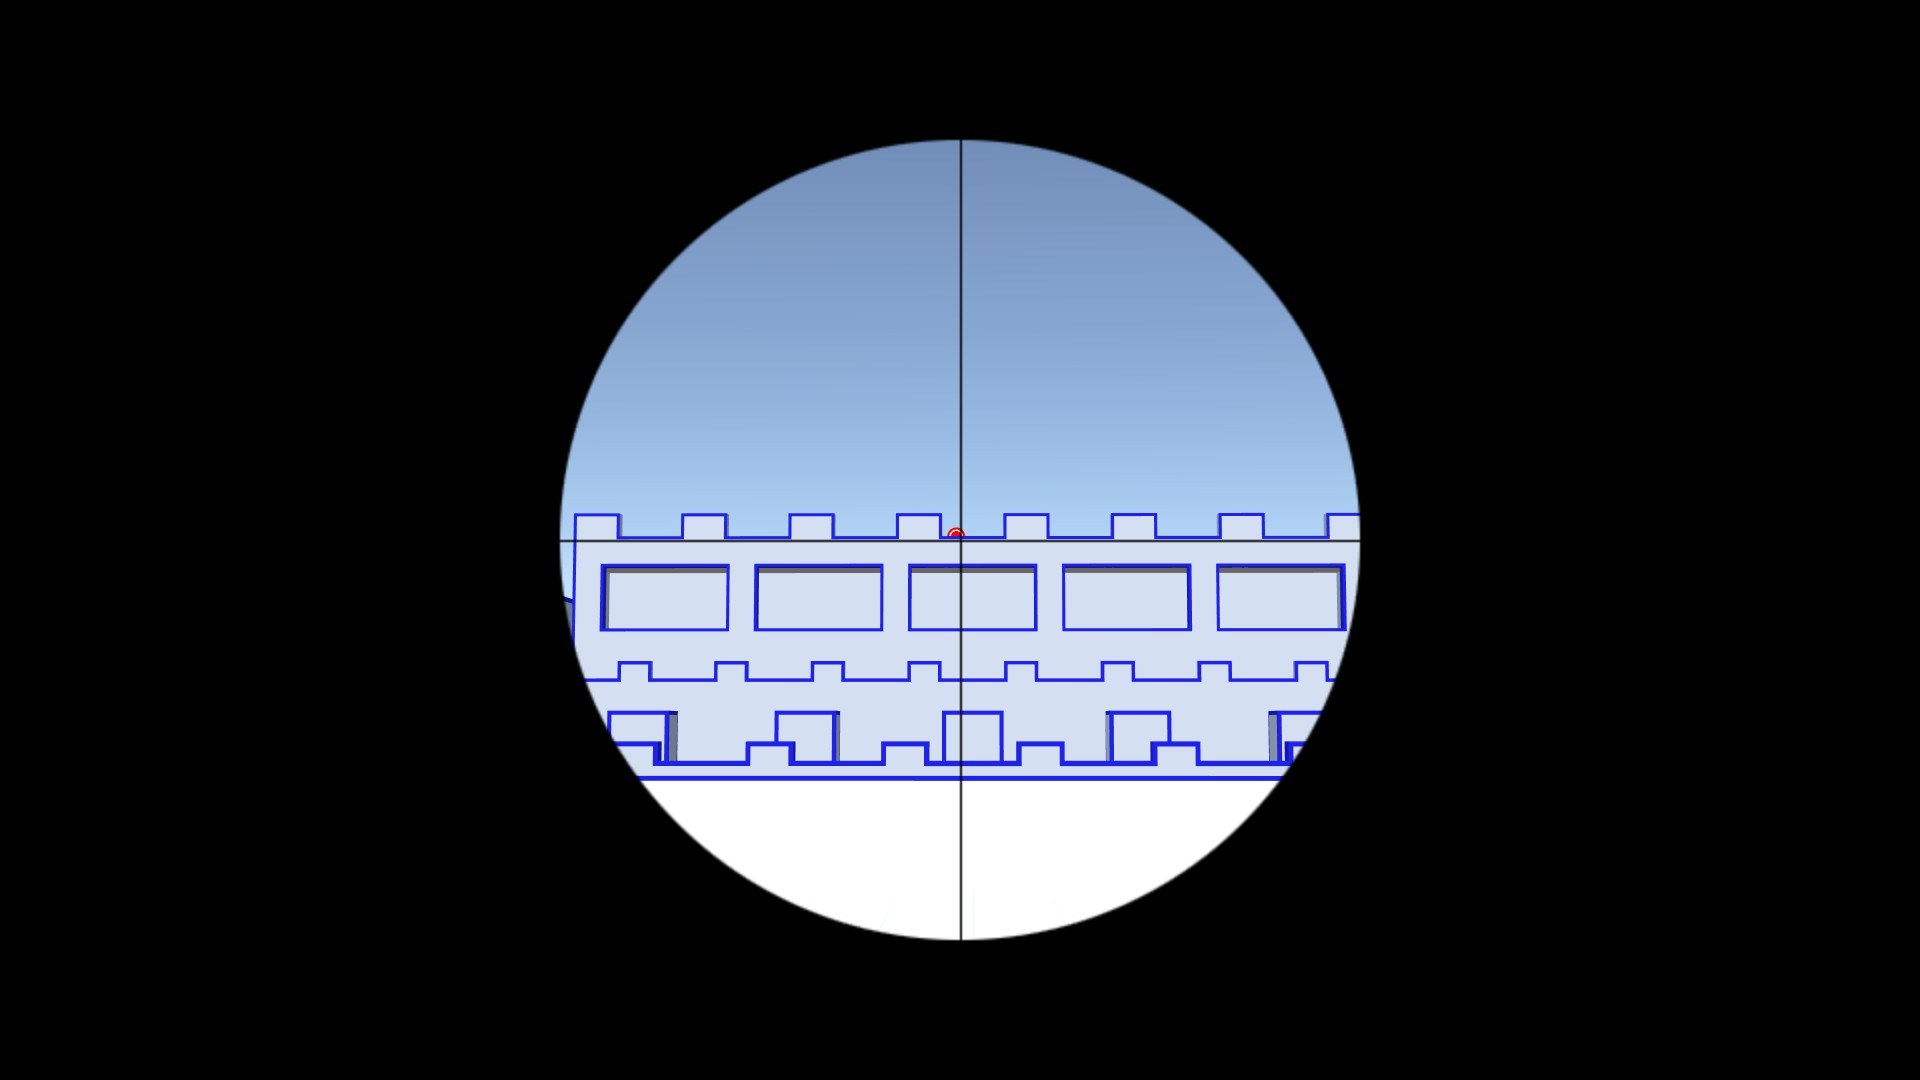target: (945, 526, 967, 538)
